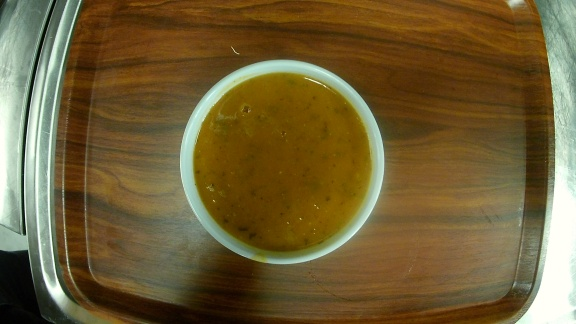ezogelin: (175, 58, 387, 263)
